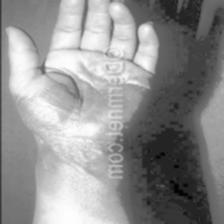Toxin: (44, 132, 104, 204), (74, 71, 104, 130), (17, 92, 51, 124), (125, 76, 147, 118)
